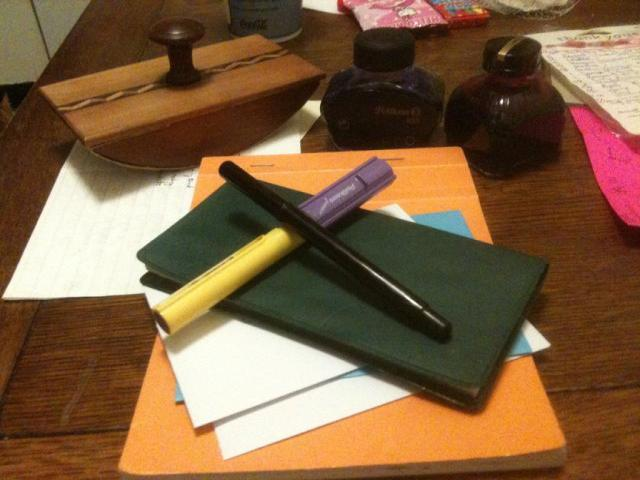PEN: (195, 134, 475, 363)
